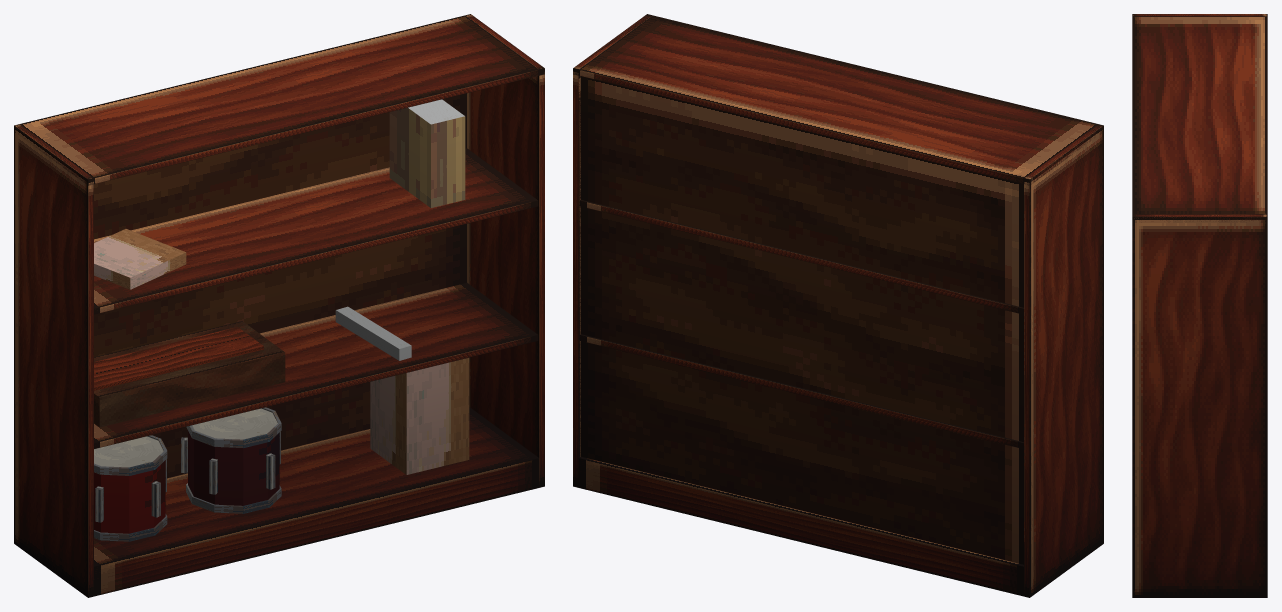
The model's file is prop_instrument_shelf-0.glb.
3 renders of one model, left to right at view 1: azimuth 30°, elevation 25°; view 2: azimuth 150°, elevation 25°; view 3: azimuth 270°, elevation 25°, orthographic. The views are drawn at different scales.
Parts seen in each view (by area): view 1: prop_instrument_shelf-0; view 2: prop_instrument_shelf-0; view 3: prop_instrument_shelf-0.
Part boxes in pixels (x1=…): prop_instrument_shelf-0: x1=14, y1=14, x2=544, y2=597; prop_instrument_shelf-0: x1=573, y1=14, x2=1103, y2=597; prop_instrument_shelf-0: x1=1132, y1=14, x2=1267, y2=597.
Size of the model in its own units: 1.6 by 1.4 by 0.45.
10 materials, 10 textured.
